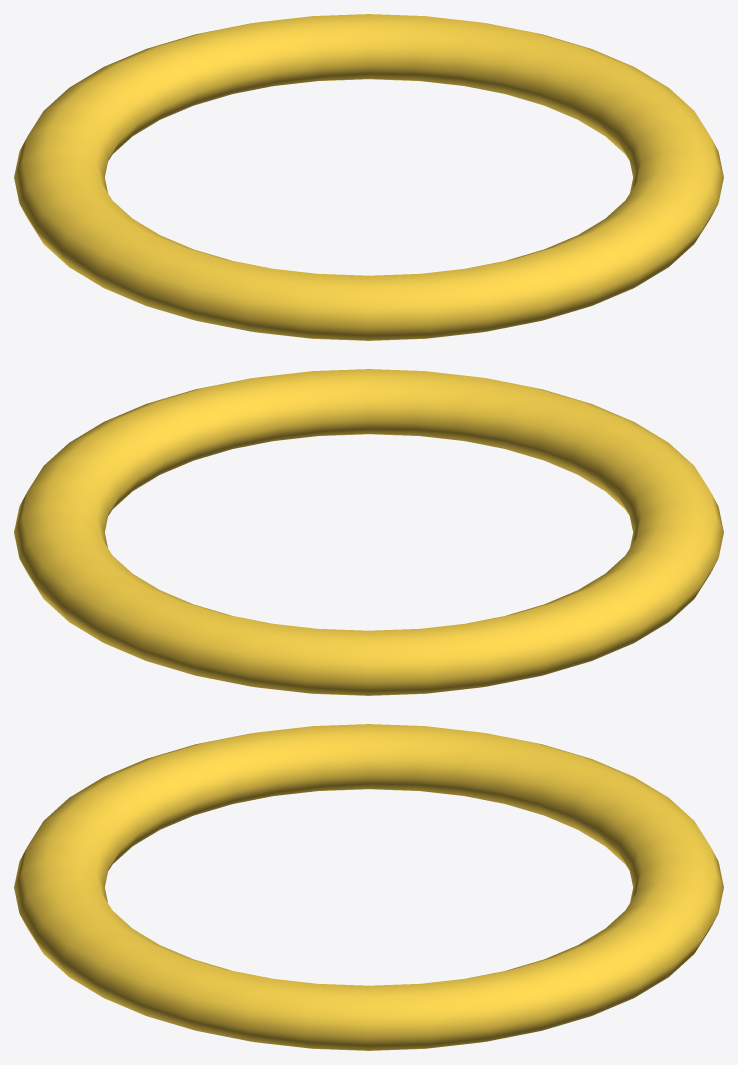
Rendered from acc_halo.glb.
3 renders of one model, top to bottom at view 1: azimuth 30°, elevation 25°; view 2: azimuth 150°, elevation 25°; view 3: azimuth 270°, elevation 25°, orthographic.
Visible parts, largest first — view 1: Halo; view 2: Halo; view 3: Halo.
Part boxes in pixels (x1,y1,x2,y2): Halo: (14,14,723,340); Halo: (14,369,723,695); Halo: (14,724,723,1050).
Size of the model in its own units: 0.344 by 0.0285 by 0.344.
